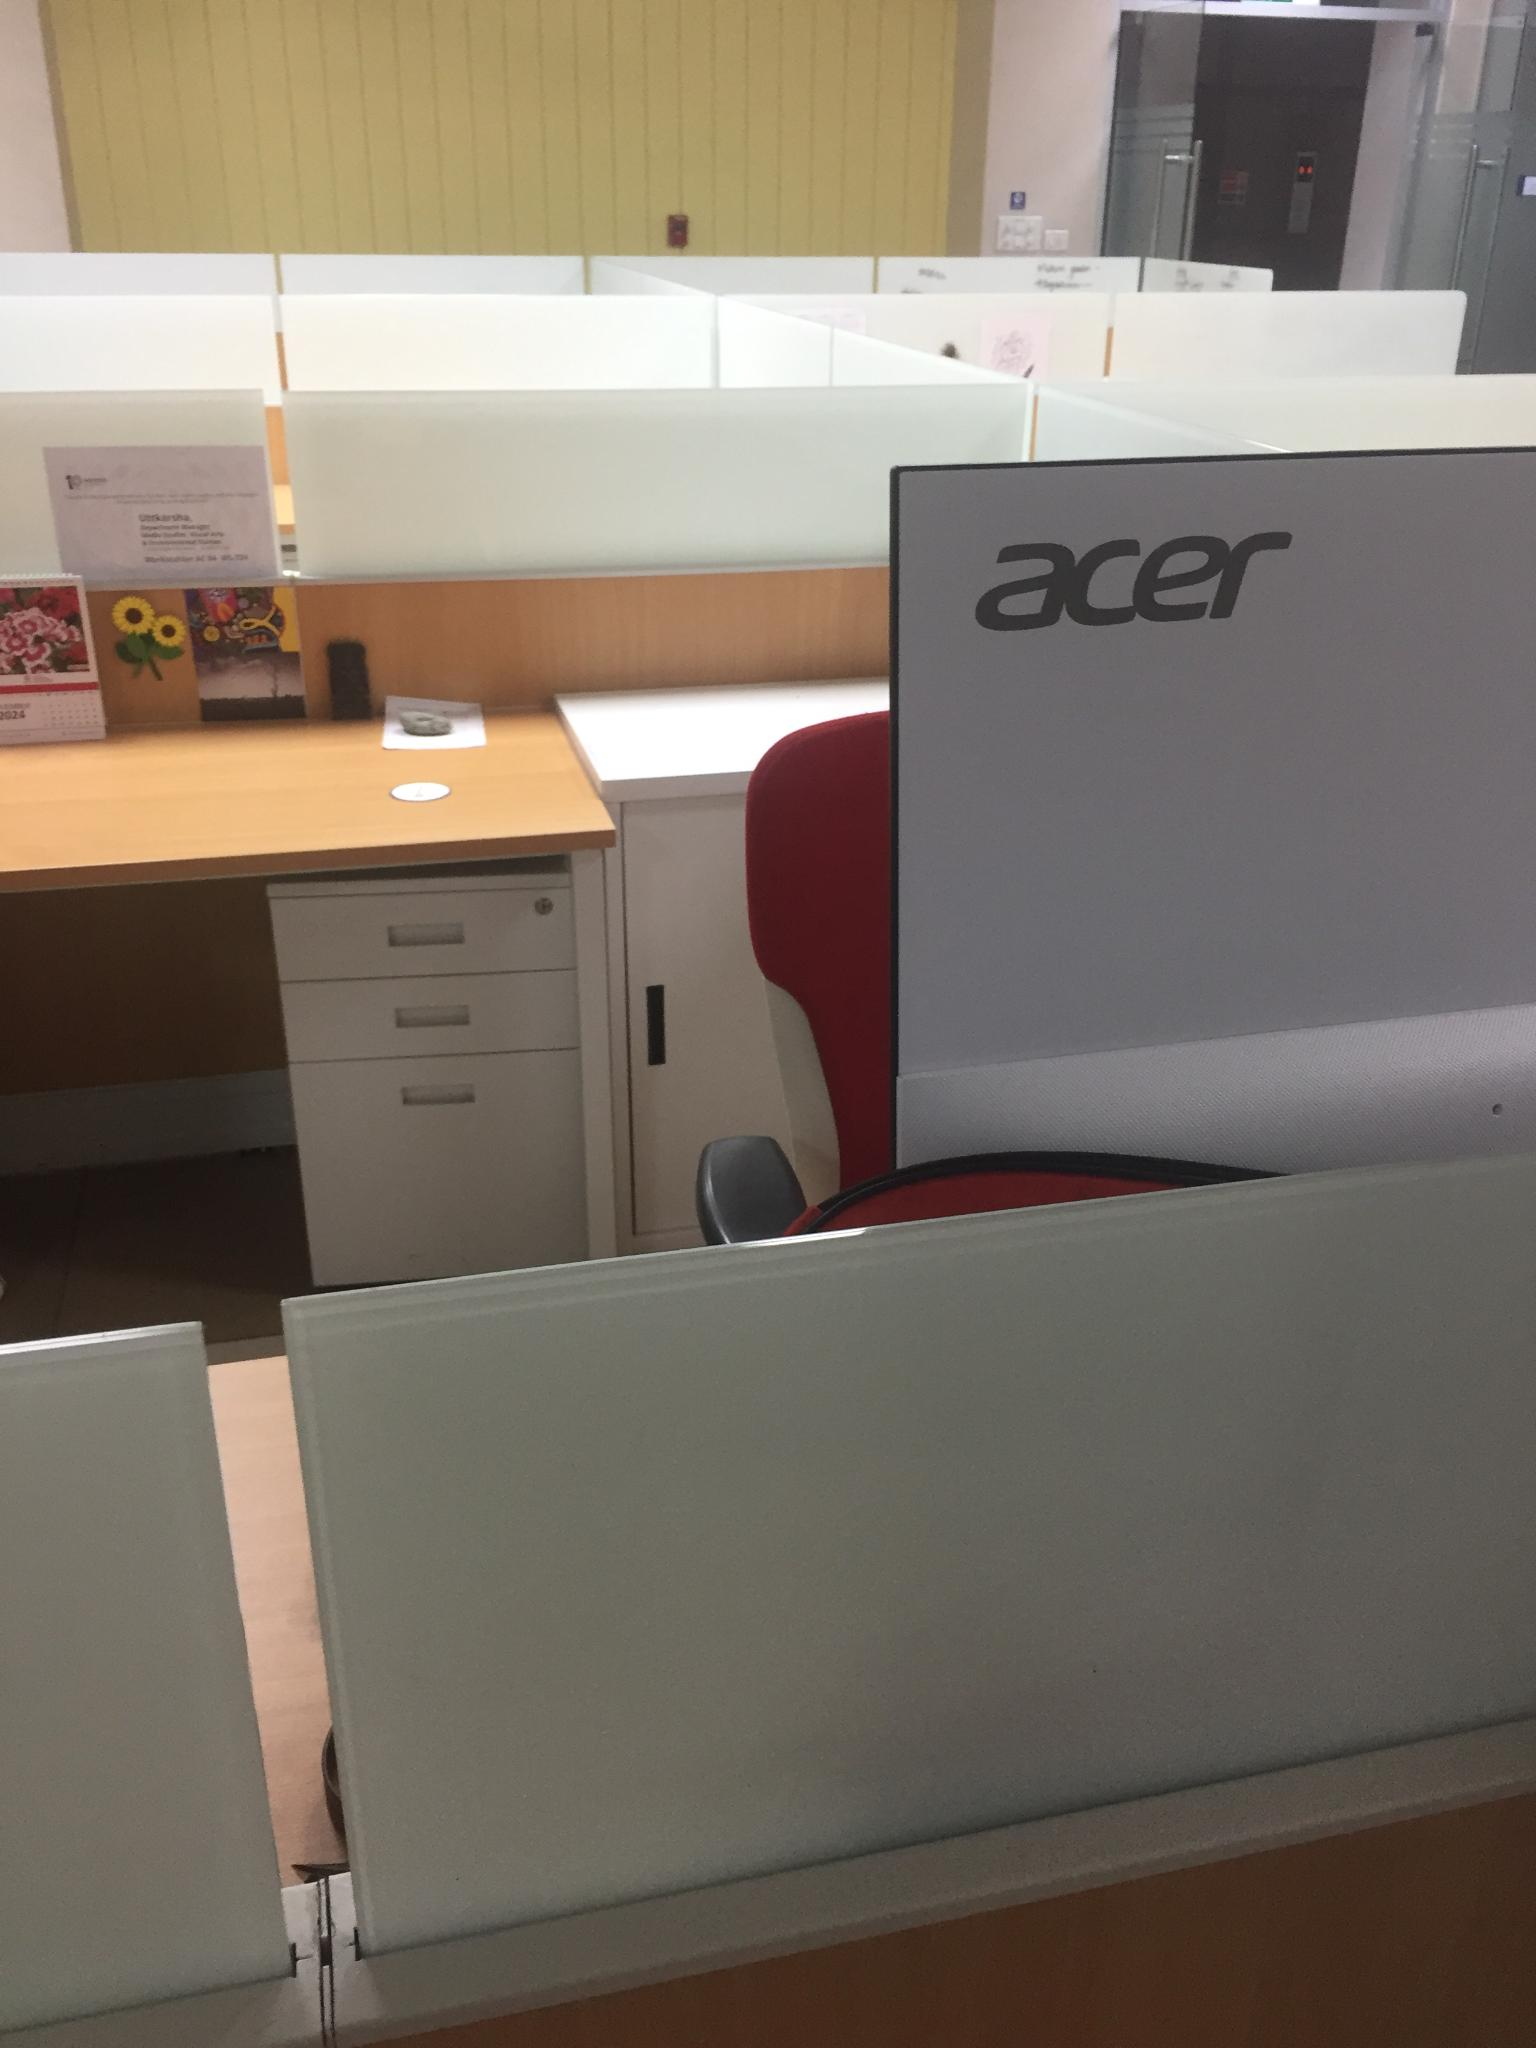chair: (694, 706, 1284, 1243)
